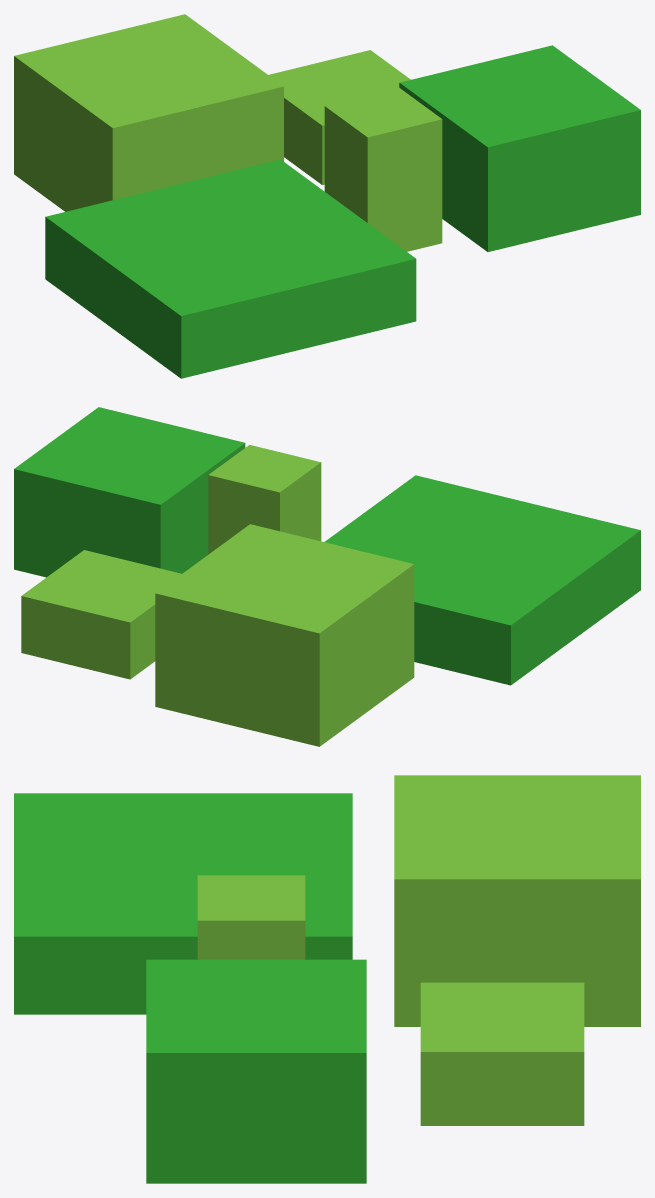
File: grass.obj
3 renders of one model, top to bottom at view 1: azimuth 30°, elevation 25°; view 2: azimuth 150°, elevation 25°; view 3: azimuth 270°, elevation 25°, orthographic. The views are drawn at different scales.
Visible parts, largest first — view 1: Cube.001; view 2: Cube.001; view 3: Cube.001.
Part boxes in pixels (x1=…): Cube.001: x1=14, y1=14, x2=640, y2=378; Cube.001: x1=14, y1=407, x2=640, y2=746; Cube.001: x1=14, y1=775, x2=640, y2=1183.
Size of the model in its own units: 0.7947 by 0.1836 by 0.6746.
1 material, 1 textured.
